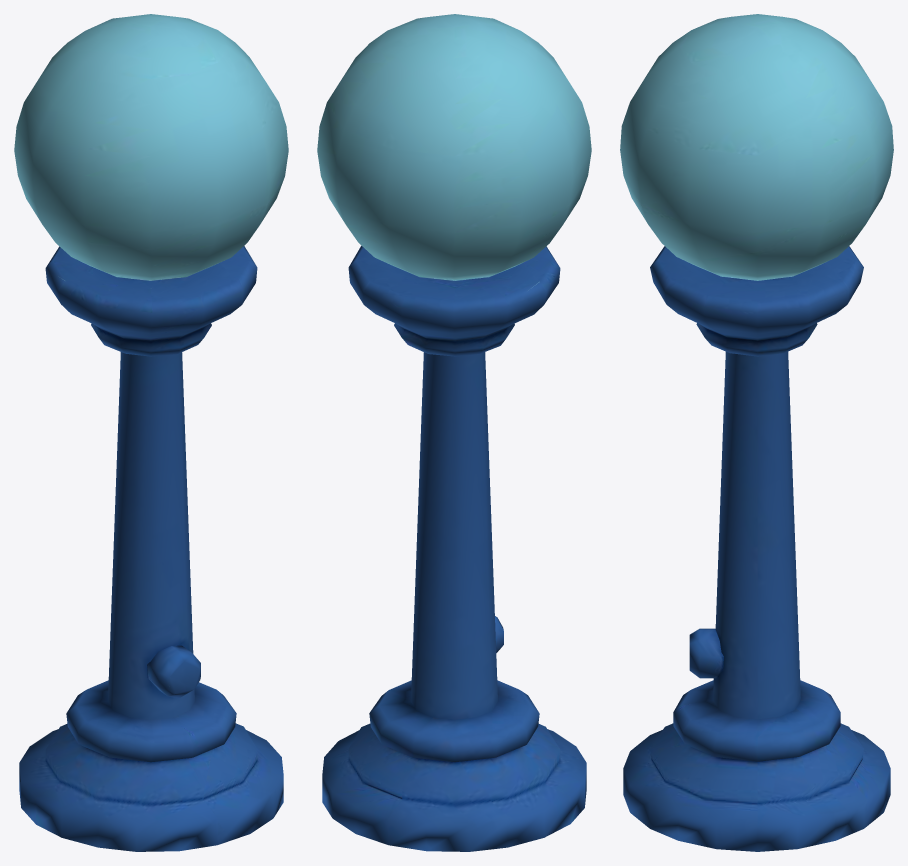
File: beacon.glb
The picture shows the model from 3 angles, left to right: view 1: azimuth 30°, elevation 25°; view 2: azimuth 150°, elevation 25°; view 3: azimuth 270°, elevation 25°; orthographic projection.
Visible parts, largest first — view 1: tripo_node_e424dab6-3751-4e14-9b4c-987dd38401c1; view 2: tripo_node_e424dab6-3751-4e14-9b4c-987dd38401c1; view 3: tripo_node_e424dab6-3751-4e14-9b4c-987dd38401c1.
Boxes of the visible parts, x1=… form: tripo_node_e424dab6-3751-4e14-9b4c-987dd38401c1: x1=14, y1=14, x2=288, y2=851; tripo_node_e424dab6-3751-4e14-9b4c-987dd38401c1: x1=317, y1=14, x2=591, y2=851; tripo_node_e424dab6-3751-4e14-9b4c-987dd38401c1: x1=620, y1=14, x2=893, y2=851.
Size of the model in its own units: 0.3223 by 0.998 by 0.3223.
Materials: 1 (1 with a texture image).
